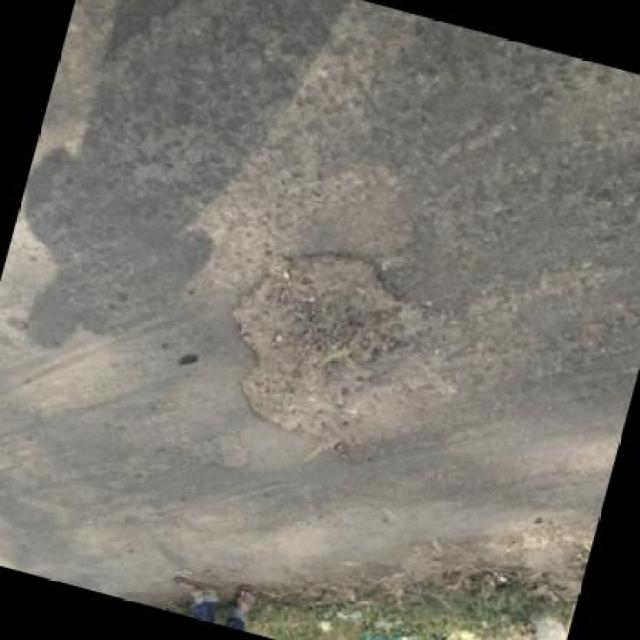pothole1: (198, 222, 444, 468), (188, 425, 254, 478)
